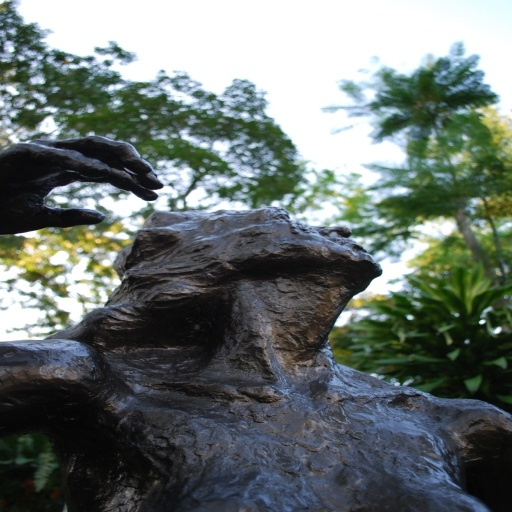hand: (2, 128, 174, 226)
